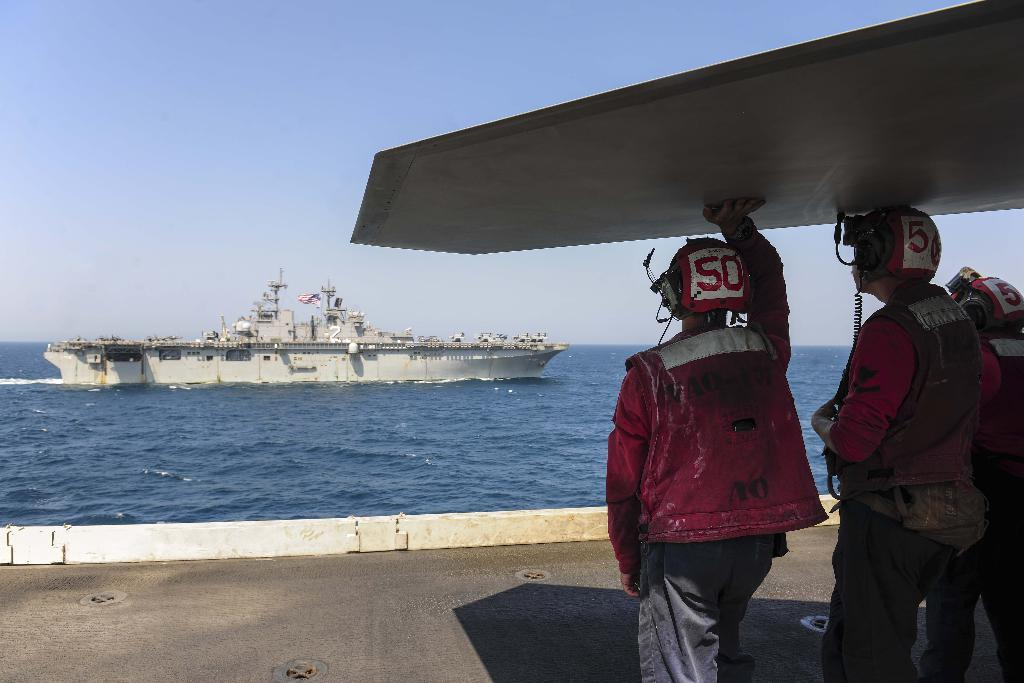Warship: (43, 253, 573, 393)
